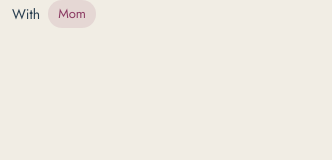
Test: artifact people links › reads mentions for the specific saved touchstone and navigates to the person's ID
This screenshot has width=332, height=160.
Click the link "Mom".
click(72, 14)  # box [48,0,96,28]
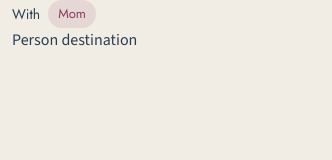
Result: the text "Person destination" is shown at [12,29,137,50]
